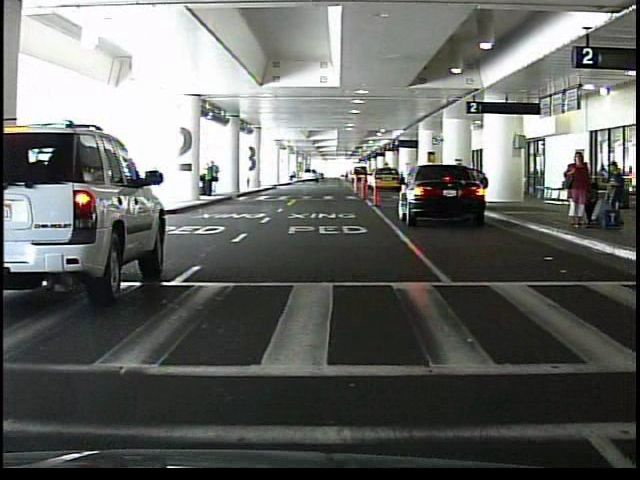person: (562, 152, 595, 228), (600, 161, 622, 228), (578, 157, 589, 202), (202, 161, 214, 198), (211, 161, 221, 196)
